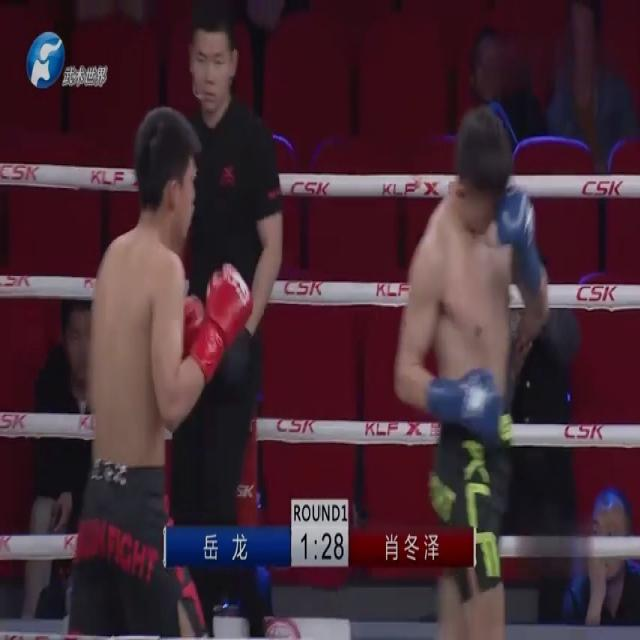fight: (66, 93, 547, 639)
non-fight: (173, 0, 283, 631)
